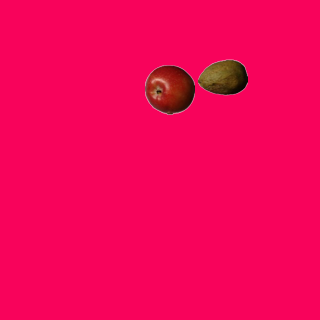Apple Braeburn: (144, 64, 194, 114)
Papaya: (197, 52, 247, 102)
